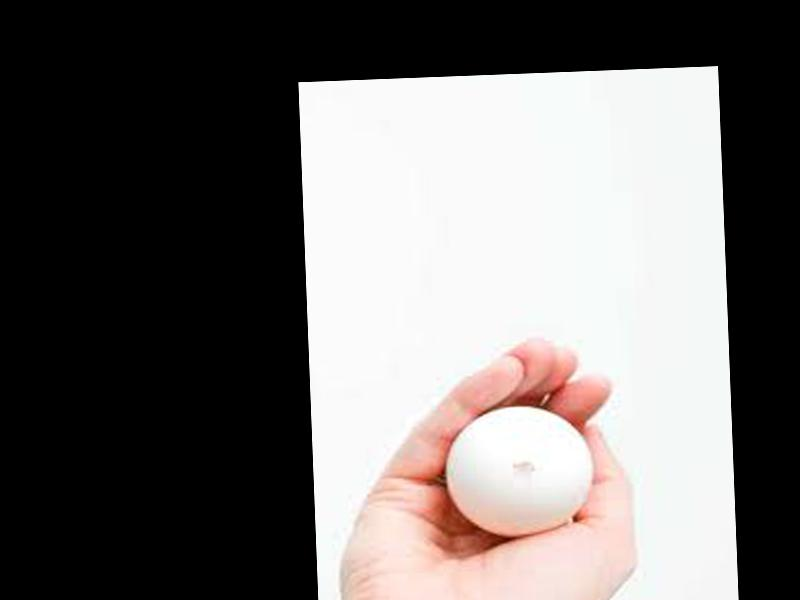Eggs: (446, 403, 590, 536)
